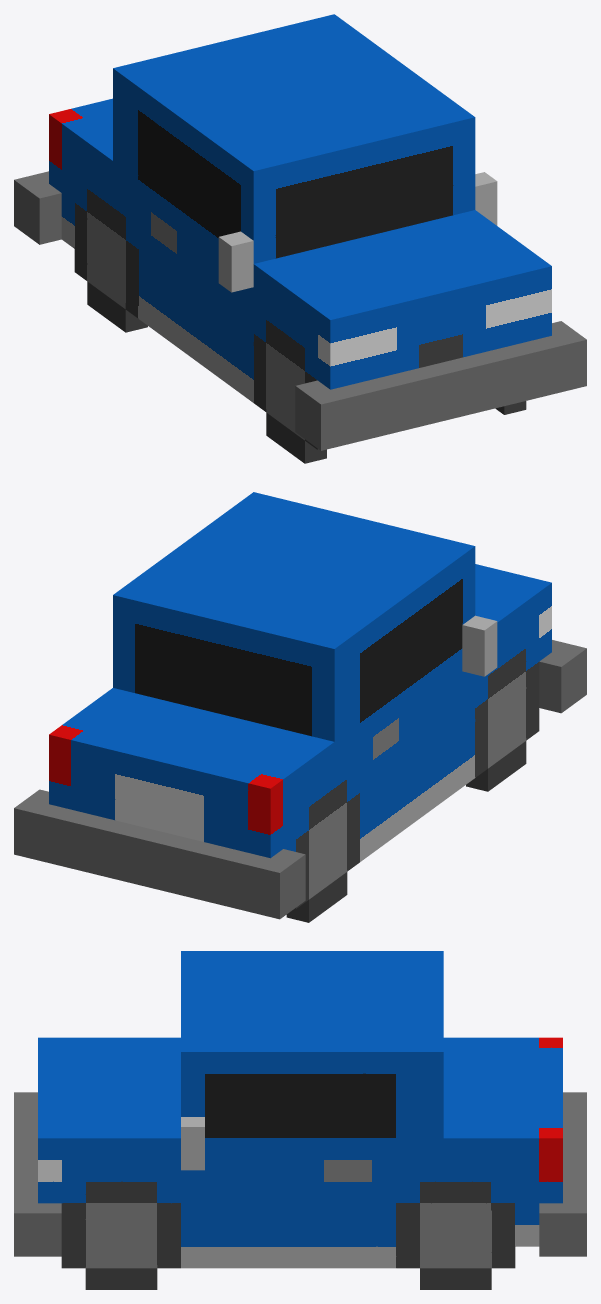
The model's file is veh_mini5.dae.
The picture shows the model from 3 angles, top to bottom: view 1: azimuth 30°, elevation 25°; view 2: azimuth 150°, elevation 25°; view 3: azimuth 270°, elevation 25°; orthographic projection. The views are drawn at different scales.
Parts seen in each view (by area): view 1: veh_mini5; view 2: veh_mini5; view 3: veh_mini5.
Boxes of the visible parts, box(x1,y1,x2,y2) form: veh_mini5: box(14, 14, 586, 463); veh_mini5: box(14, 492, 586, 922); veh_mini5: box(14, 951, 586, 1289).
Size of the model in its own units: 1.2 by 2.4 by 1.1.
Materials: 1 (1 with a texture image).
